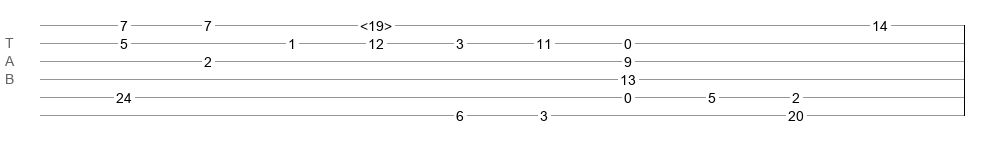0: (624, 36, 632, 46), (624, 90, 632, 100)
1: (288, 36, 296, 46)
11: (536, 36, 552, 46)
12: (368, 36, 384, 46)
13: (620, 72, 636, 82)
14: (872, 18, 888, 28)
2: (204, 54, 212, 64), (792, 90, 800, 100)
20: (788, 108, 804, 118)
24: (116, 90, 132, 100)
3: (456, 36, 464, 46), (540, 108, 548, 118)
5: (120, 36, 128, 46), (708, 90, 716, 100)
6: (456, 108, 464, 118)
7: (120, 18, 128, 28), (204, 18, 212, 28)
9: (624, 54, 632, 64)
harmonic: (360, 18, 392, 28)
